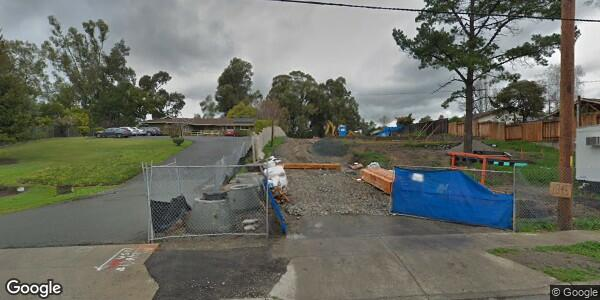Wood_Pole: (552, 1, 579, 231)
